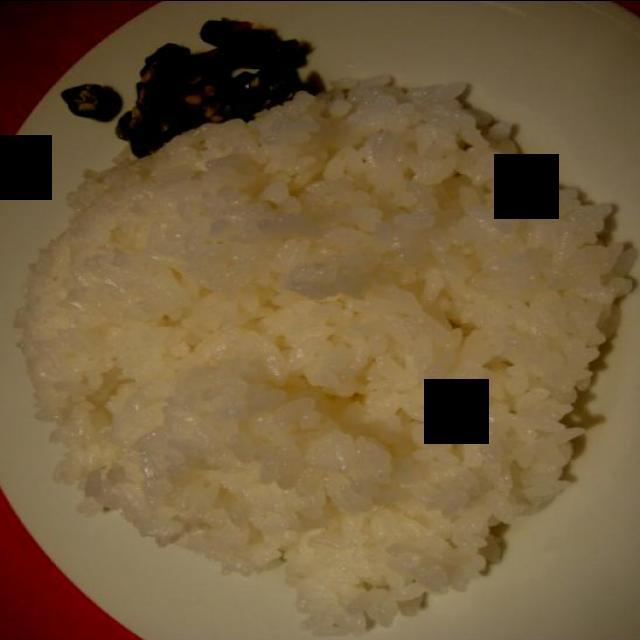rice: (11, 79, 638, 636)
